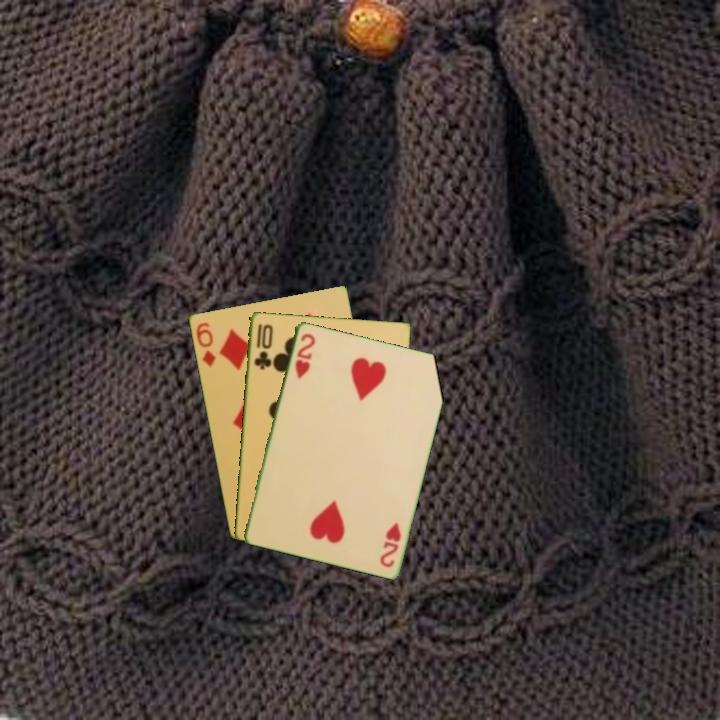10c: (250, 320, 275, 372)
2h: (291, 329, 318, 382), (376, 519, 404, 570)
6d: (192, 319, 218, 370)
